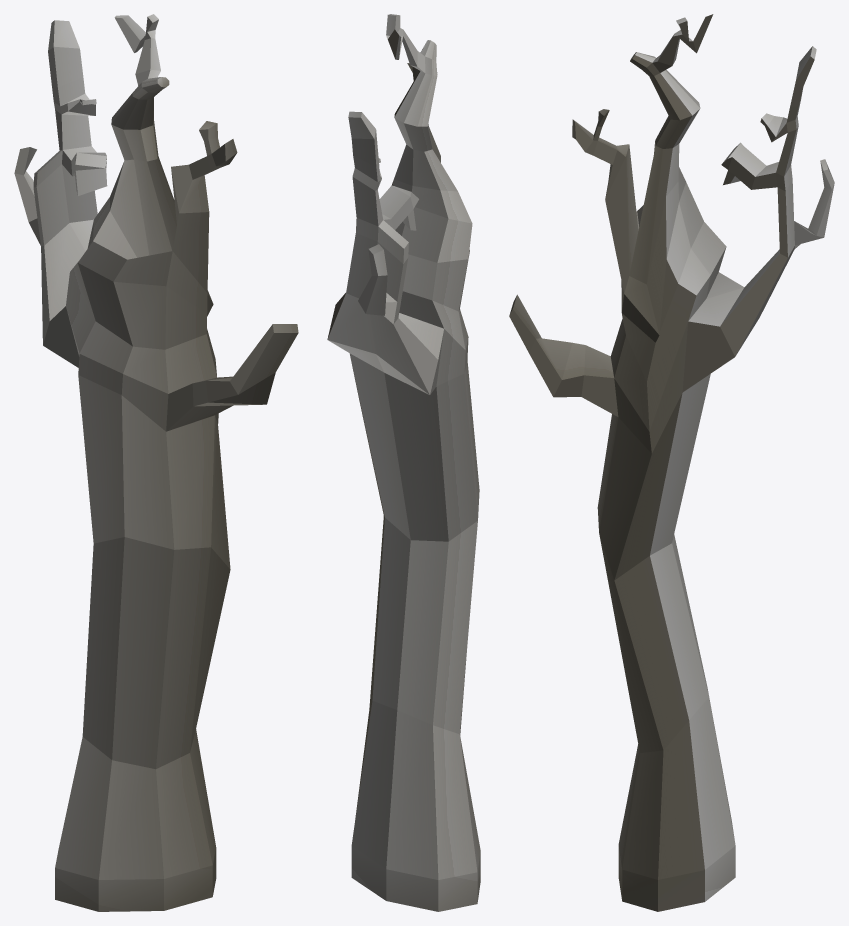
The model's file is spookyTree2.fbx.
3 renders of one model, left to right at view 1: azimuth 30°, elevation 25°; view 2: azimuth 150°, elevation 25°; view 3: azimuth 270°, elevation 25°, orthographic.
Parts seen in each view (by area): view 1: spooky tree.002; view 2: spooky tree.002; view 3: spooky tree.002.
Boxes of the visible parts, x1,y1,x2,y2 form: spooky tree.002: (14, 14, 298, 911); spooky tree.002: (327, 14, 480, 911); spooky tree.002: (509, 14, 834, 911).
Size of the model in its own units: 767 by 4202 by 1429.
